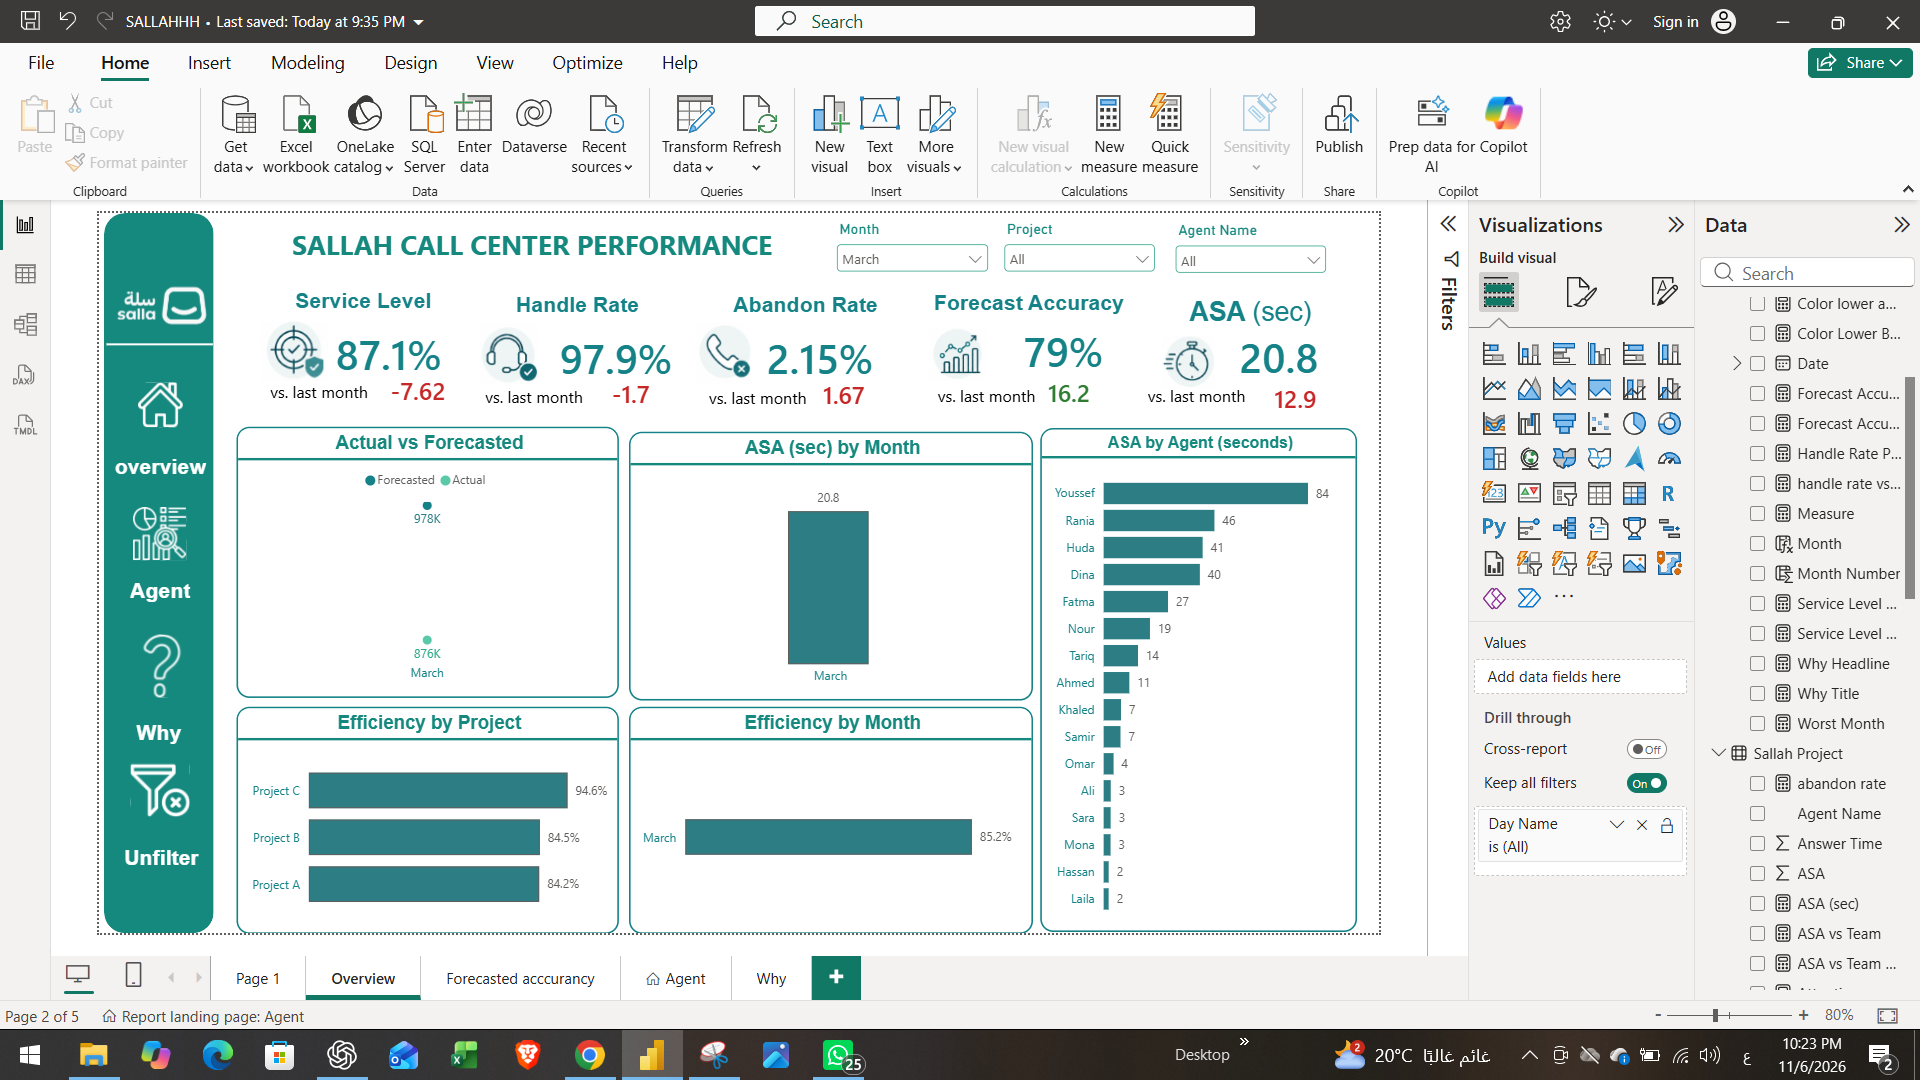

What the dashboard file says about the page in this screenshot:
{"tool":"powerbi","page":{"name":"Overview","canvas":[1280,720],"ordinal":1},"visuals":[{"type":"textbox","box":[103,8.2,621.4,52.9],"z":0,"group":"g2"},{"type":"shape","box":[4.8,0,109.8,720.2],"z":1000},{"type":"slicer","fields":{"Values":["Calendar.Month"]},"box":[728.1,2.2,171.3,71.2],"z":1000,"group":"g2"},{"type":"actionButton","box":[826.5,100.4,65.4,79.3],"z":1000,"group":"g1"},{"type":"slicer","fields":{"Values":["Sallah Project.Project"]},"box":[896,2.5,171.1,71],"z":2000,"group":"g2"},{"type":"textbox","box":[1071,78.2,160.5,45.3],"z":2000,"group":"g1"},{"type":"slicer","fields":{"Values":["Sallah Project.Agent Name"]},"box":[1067.2,3.6,171.1,58.4],"z":3000,"group":"g2"},{"type":"actionButton","box":[132.2,100.4,126.6,75.1],"z":3000,"group":"g1"},{"type":"barChart","title":"ASA by Agent (seconds)","fields":{"Category":["Sallah Project.Agent Name"],"Y":["Sallah Project.ASA (sec)"]},"box":[940.8,215.4,317.1,504.3],"z":3000},{"type":"cardVisual","fields":{"Data":["Sallah Project.Handle Rate %"]},"box":[420.9,85.8,192.5,112.5],"z":4000,"group":"g1"},{"type":"lineChart","title":"Actual vs Forecasted","fields":{"Category":["Calendar.Month"],"Y":["Sum(Sallah Project.Forecasted Calls)","Sum(Sallah Project.Calls Offered)"]},"box":[137.1,214.3,382.6,271.3],"z":4000},{"type":"group","id":"g1","title":"Group 1","box":[132.2,64.5,1144.2,150.2],"z":5000},{"type":"actionButton","box":[352,107.1,114.1,68.2],"z":5000,"group":"g1"},{"type":"textbox","box":[369.3,74.8,217,45.9],"z":6000,"group":"g1"},{"type":"barChart","title":"Efficiency by Project","fields":{"Category":["Sallah Project.Project"],"Y":["Sallah Project.efficiency"]},"box":[137.2,493.5,382.5,227.5],"z":6000},{"type":"textbox","box":[591.9,74.6,228.2,48.7],"z":7000,"group":"g1"},{"type":"barChart","title":"Efficiency by Month","fields":{"Category":["Calendar.Month"],"Y":["Sallah Project.efficiency"]},"box":[529.9,493.1,404.2,226.8],"z":7000},{"type":"textbox","box":[825.1,72.6,210.1,50.1],"z":8000,"group":"g1"},{"type":"columnChart","fields":{"Category":["Calendar.Month","Sallah Project.Day Name"],"Y":["Sallah Project.ASA (sec)"]},"box":[530.4,218.1,404.2,269],"z":8000},{"type":"textbox","box":[165.6,71.2,196.2,34.8],"z":9000,"group":"g1"},{"type":"actionButton","box":[34.8,146.1,52.9,91.8],"z":9000},{"type":"cardVisual","fields":{"Data":["Sallah Project.abandon rate"]},"box":[621,70.8,200,142.5],"z":10000,"group":"g1"},{"type":"actionButton","box":[27.8,417.4,90.4,71],"z":10000},{"type":"cardVisual","fields":{"Data":["Sallah Project.ASA (sec)"]},"box":[1107.3,75.4,145.5,131.7],"z":11000,"group":"g1"},{"type":"cardVisual","fields":{"Data":["Sallah Project.Service Level %"]},"box":[197.5,86.8,185.8,103.8],"z":12000,"group":"g1"},{"type":"actionButton","box":[30.6,289.4,65.4,61.2],"z":12000},{"type":"group","id":"g2","title":"Group 2","box":[103,2.2,1135.3,71.2],"z":13000},{"type":"cardVisual","fields":{"Data":["Sallah Project.Forecast Accuracy %"]},"box":[863.6,64.5,202.5,141.2],"z":13000,"group":"g1"},{"type":"textbox","box":[1043.6,165.9,124.3,40],"z":14000,"group":"g1"},{"type":"actionButton","box":[27.1,544.3,82.9,67.1],"z":14000},{"type":"actionButton","box":[589.1,99.6,71,80.7],"z":15000},{"type":"cardVisual","fields":{"Data":["Calendar.ASA vs LM"]},"box":[1146,153,130.4,61.7],"z":15000,"group":"g1"},{"type":"actionButton","box":[1040.7,119.1,96,61.2],"z":16000},{"type":"textbox","box":[604.4,167.8,115.5,43.1],"z":16000,"group":"g1"},{"type":"actionButton","box":[11.1,229.6,100.2,48.7],"z":17000},{"type":"actionButton","box":[11.1,353.4,100.2,48.7],"z":18000},{"type":"actionButton","box":[10,495.7,100,48.6],"z":19000},{"type":"actionButton","box":[12.9,621.4,100,47.1],"z":20000},{"type":"actionButton","box":[0.3,22.3,132.7,92.9],"z":21000},{"type":"textbox","box":[165.7,162.9,118.6,41.4],"z":23000},{"type":"textbox","box":[380.7,167.8,125.2,43.1],"z":24000},{"type":"cardVisual","fields":{"Data":["Calendar.Service Level vs LM"]},"box":[263,145,115.8,63.9],"z":25000},{"type":"cardVisual","fields":{"Data":["Calendar.Forecast Accuracy vs LM"]},"box":[919.7,146.4,130.3,63.9],"z":26000},{"type":"cardVisual","fields":{"Data":["Calendar.Abandon Rate vs LM"]},"box":[694.8,148.3,118.3,64],"z":27000},{"type":"cardVisual","fields":{"Data":["Calendar.handle rate vs LM"]},"box":[483.6,146.9,115.8,63.9],"z":28000},{"type":"textbox","box":[833.4,166.4,125.2,44.5],"z":29000},{"type":"shape","box":[7.4,104.2,106.7,55.2],"z":30000}]}

Visuals, with their boxes on the page's 1280x720 design canvas (x1, y1, x2, y2). These are canvas units, not pixel positions in the 1920x1080 screenshot, which may show the page scaled, cropped or inside an application window:
textbox: bbox=(103, 8, 724, 61)
shape: bbox=(5, 0, 115, 720)
slicer - Calendar.Month: bbox=(728, 2, 899, 73)
actionButton: bbox=(826, 100, 892, 180)
slicer - Sallah Project.Project: bbox=(896, 2, 1067, 74)
textbox: bbox=(1071, 78, 1232, 124)
slicer - Sallah Project.Agent Name: bbox=(1067, 4, 1238, 62)
actionButton: bbox=(132, 100, 259, 176)
"ASA by Agent (seconds)" barChart: bbox=(941, 215, 1258, 720)
cardVisual - Sallah Project.Handle Rate %: bbox=(421, 86, 613, 198)
"Actual vs Forecasted" lineChart: bbox=(137, 214, 520, 486)
"Group 1" group: bbox=(132, 64, 1276, 215)
actionButton: bbox=(352, 107, 466, 175)
textbox: bbox=(369, 75, 586, 121)
"Efficiency by Project" barChart: bbox=(137, 494, 520, 721)
textbox: bbox=(592, 75, 820, 123)
"Efficiency by Month" barChart: bbox=(530, 493, 934, 720)
textbox: bbox=(825, 73, 1035, 123)
columnChart - Calendar.Month x Sallah Project.Day Name: bbox=(530, 218, 935, 487)
textbox: bbox=(166, 71, 362, 106)
actionButton: bbox=(35, 146, 88, 238)
cardVisual - Sallah Project.abandon rate: bbox=(621, 71, 821, 213)
actionButton: bbox=(28, 417, 118, 488)
cardVisual - Sallah Project.ASA (sec): bbox=(1107, 75, 1253, 207)
cardVisual - Sallah Project.Service Level %: bbox=(198, 87, 383, 191)
actionButton: bbox=(31, 289, 96, 351)
"Group 2" group: bbox=(103, 2, 1238, 73)
cardVisual - Sallah Project.Forecast Accuracy %: bbox=(864, 64, 1066, 206)
textbox: bbox=(1044, 166, 1168, 206)
actionButton: bbox=(27, 544, 110, 611)
actionButton: bbox=(589, 100, 660, 180)
cardVisual - Calendar.ASA vs LM: bbox=(1146, 153, 1276, 215)
actionButton: bbox=(1041, 119, 1137, 180)
textbox: bbox=(604, 168, 720, 211)
actionButton: bbox=(11, 230, 111, 278)
actionButton: bbox=(11, 353, 111, 402)
actionButton: bbox=(10, 496, 110, 544)
actionButton: bbox=(13, 621, 113, 668)
actionButton: bbox=(0, 22, 133, 115)
textbox: bbox=(166, 163, 284, 204)
textbox: bbox=(381, 168, 506, 211)
cardVisual - Calendar.Service Level vs LM: bbox=(263, 145, 379, 209)
cardVisual - Calendar.Forecast Accuracy vs LM: bbox=(920, 146, 1050, 210)
cardVisual - Calendar.Abandon Rate vs LM: bbox=(695, 148, 813, 212)
cardVisual - Calendar.handle rate vs LM: bbox=(484, 147, 599, 211)
textbox: bbox=(833, 166, 959, 211)
shape: bbox=(7, 104, 114, 159)
